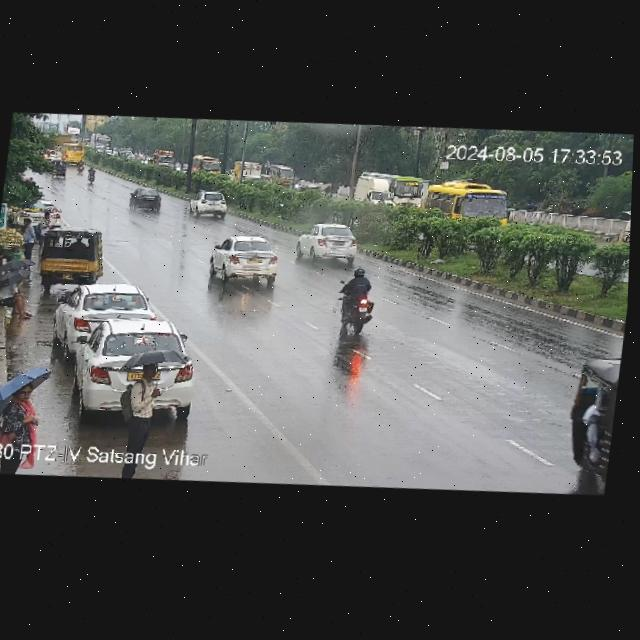bus: (353, 170, 426, 214), (61, 141, 86, 164)
car: (67, 313, 197, 400), (558, 342, 622, 497), (55, 278, 152, 348), (424, 173, 520, 231), (33, 224, 105, 292), (206, 229, 281, 288), (297, 219, 363, 267), (187, 189, 230, 219), (127, 185, 164, 215), (50, 159, 69, 180)
motorcycle: (326, 265, 378, 337), (85, 165, 98, 185), (75, 158, 84, 175)
person: (116, 358, 165, 458), (0, 379, 44, 474), (0, 273, 37, 327), (16, 213, 40, 259), (38, 211, 52, 235)
truck: (354, 176, 394, 211)
